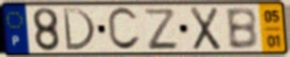8: (32, 6, 62, 53)
B: (223, 6, 260, 51)
C: (106, 6, 143, 53)
D: (61, 7, 98, 53)
X: (188, 6, 222, 53)
Z: (141, 7, 181, 52)
